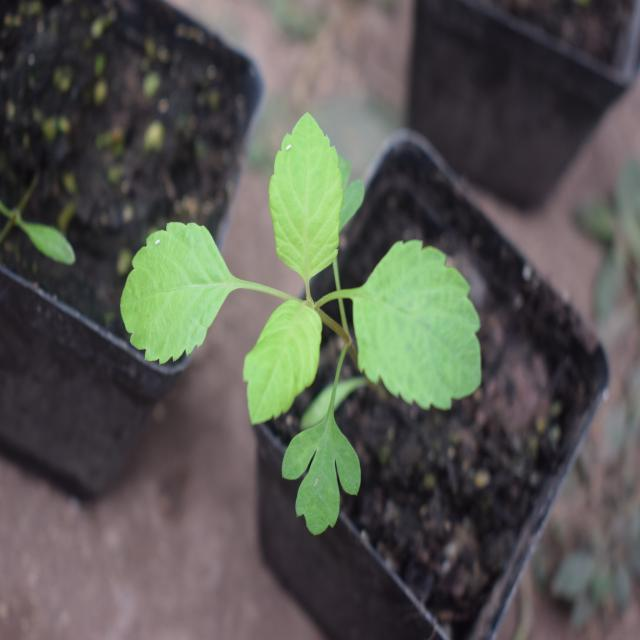Bidens pilosa: (119, 111, 489, 528)
